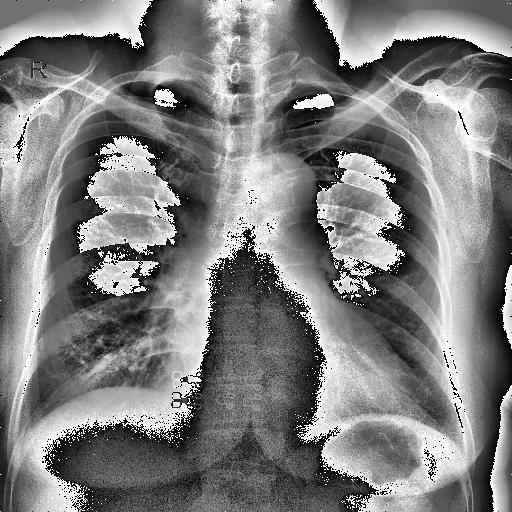0- Aortic enlargement: (240, 152, 318, 222), (249, 148, 317, 228), (249, 152, 316, 218)
3- Cardiomegaly: (171, 346, 420, 436), (199, 326, 427, 422), (192, 340, 430, 430)
